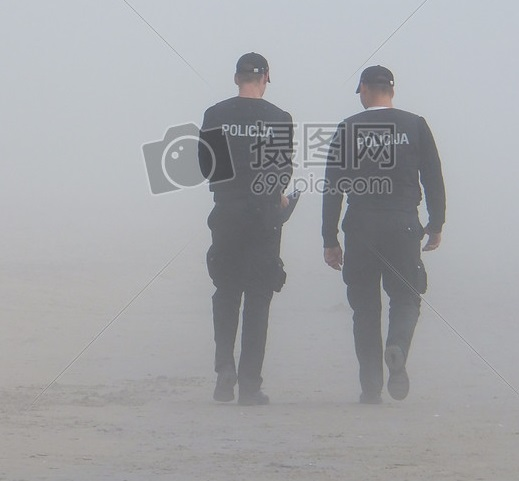person: (317, 60, 450, 407), (185, 45, 304, 408)
